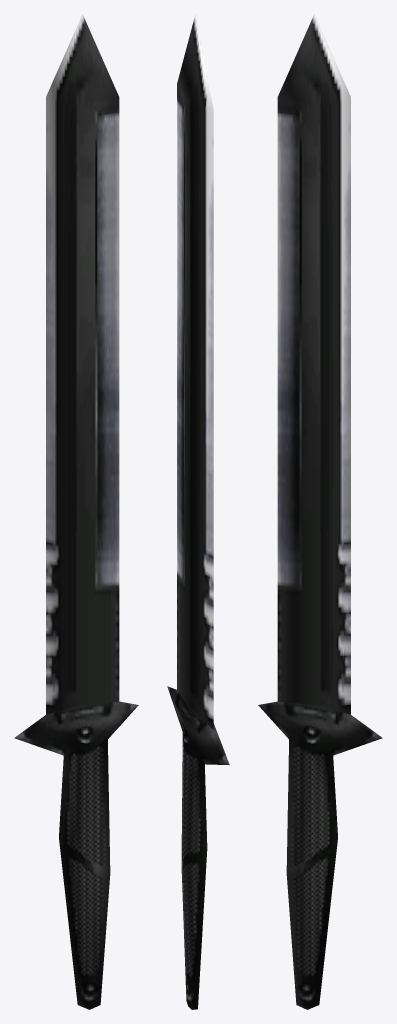
Rendered from Hard Sword.glb.
The picture shows the model from 3 angles, left to right: view 1: azimuth 90°, elevation 25°; view 2: azimuth 210°, elevation 25°; view 3: azimuth 270°, elevation 25°; orthographic projection.
Visible parts, largest first — view 1: object_1, object_0; view 2: object_1, object_0; view 3: object_1, object_0.
Boxes of the visible parts, bbox=[...] form: object_1: bbox=[46, 14, 119, 714]; object_0: bbox=[14, 701, 138, 1009]; object_1: bbox=[177, 14, 213, 729]; object_0: bbox=[167, 686, 229, 1009]; object_1: bbox=[277, 14, 350, 714]; object_0: bbox=[258, 701, 382, 1009].
Bounding box in the file's own units: 4.47 × 168 × 19.1.
Materials: 1 (1 with a texture image).
